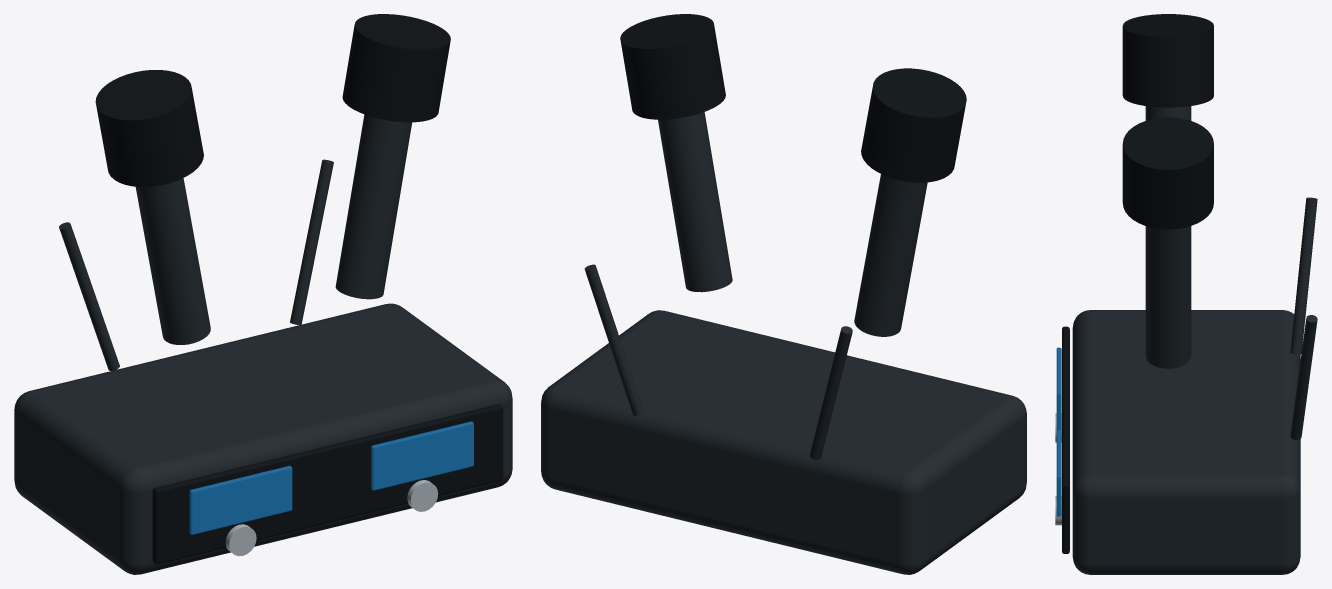
The model's file is wireless-microphone-kit.glb.
3 renders of one model, left to right at view 1: azimuth 30°, elevation 25°; view 2: azimuth 150°, elevation 25°; view 3: azimuth 270°, elevation 25°, orthographic. The views are drawn at different scales.
Parts seen in each view (by area): view 1: Wireless receiver, Microphone grille (×2), Receiver front panel, Wireless microphone handle (×2), Channel display (×2), Premium dual wireless microphone kit, Channel control (×2); view 2: Wireless receiver, Microphone grille (×2), Wireless microphone handle (×2), Premium dual wireless microphone kit; view 3: Wireless receiver, Microphone grille (×2), Wireless microphone handle (×2), Premium dual wireless microphone kit, Receiver front panel, Channel display (×2).
Part boxes in pixels (box(x1,y1,x2,y2)): Wireless receiver: box(14, 303, 512, 574); Microphone grille (×2): box(95, 14, 450, 186); Receiver front panel: box(152, 404, 503, 564); Wireless microphone handle (×2): box(135, 114, 412, 344); Channel display (×2): box(189, 421, 473, 534); Premium dual wireless microphone kit: box(59, 159, 333, 370); Channel control (×2): box(225, 480, 438, 556); Wireless receiver: box(541, 310, 1026, 574); Microphone grille (×2): box(620, 14, 966, 182); Wireless microphone handle (×2): box(658, 112, 927, 336); Premium dual wireless microphone kit: box(584, 264, 852, 460); Wireless receiver: box(1072, 310, 1300, 574); Microphone grille (×2): box(1122, 14, 1213, 229); Wireless microphone handle (×2): box(1145, 106, 1191, 368); Premium dual wireless microphone kit: box(1290, 197, 1317, 439); Receiver front panel: box(1062, 326, 1069, 553); Channel display (×2): box(1056, 347, 1061, 516).
Bounding box in the file's own units: 1.85 × 2.01 × 1.15.
